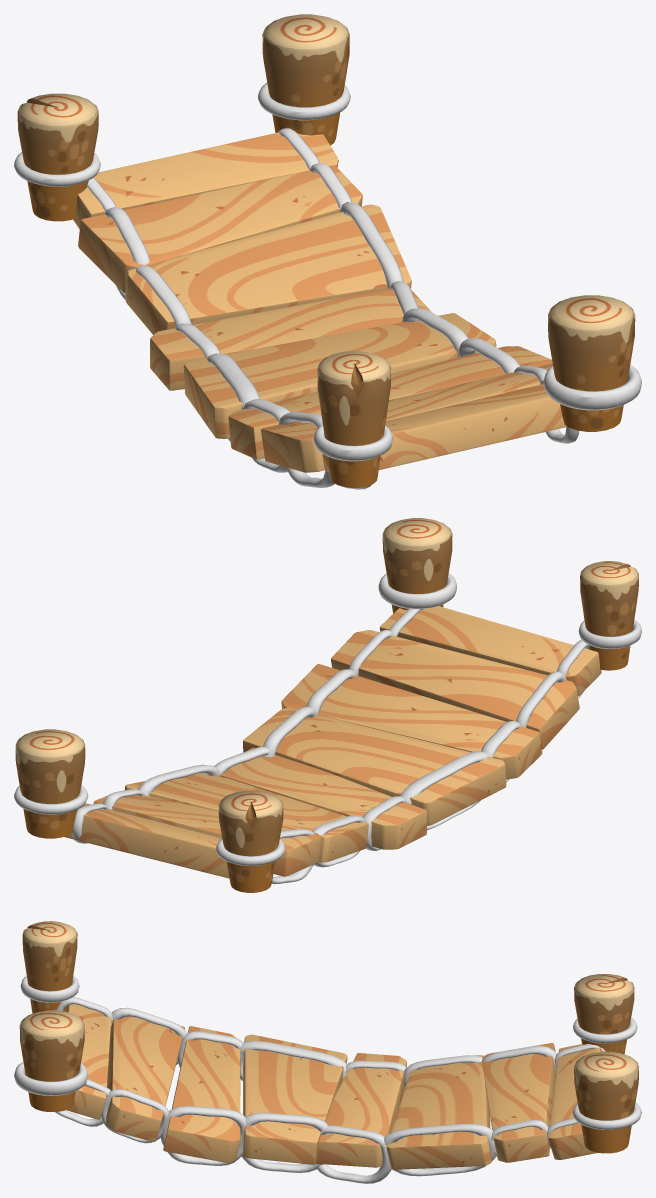
The model's file is swingBridge.fbx.
The picture shows the model from 3 angles, top to bottom: view 1: azimuth 30°, elevation 25°; view 2: azimuth 150°, elevation 25°; view 3: azimuth 270°, elevation 25°; orthographic projection. The views are drawn at different scales.
Visible parts, largest first — view 1: WoodBridge1, WoodBridge004, WoodBridge005, WoodBridge2, WoodBridge3, BridgeStick004, WoodBridge008, BridgeStick1, BridgeStick3, BridgeStick005, WoodBridge006, WoodBridge007 (+13 smaller); view 2: WoodBridge005, WoodBridge007, WoodBridge006, WoodBridge008, WoodBridge3, BridgeStick1, WoodBridge2, WoodBridge1, BridgeStick3, BridgeStick004, BridgeStick005, WoodBridge004 (+15 smaller); view 3: WoodBridge005, WoodBridge1, WoodBridge006, WoodBridge007, WoodBridge3, WoodBridge004, BridgeStick1, BridgeStick004, BridgeStick005, BridgeStick3, WoodBridge008, WoodBridge2 (+18 smaller).
Boxes of the visible parts, x1,y1,x2,y2 form: WoodBridge1: (125,204,411,334); WoodBridge004: (78,165,362,292); WoodBridge005: (183,313,496,438); WoodBridge2: (73,132,338,228); WoodBridge3: (150,288,431,390); BridgeStick004: (548,295,635,431); WoodBridge008: (322,384,566,472); BridgeStick1: (262,14,349,145); BridgeStick3: (17,93,98,221); BridgeStick005: (317,351,391,487); WoodBridge006: (228,346,552,459); WoodBridge007: (261,363,552,472); WoodBridge005: (243,707,506,825); WoodBridge007: (331,630,579,749); WoodBridge006: (281,664,542,779); WoodBridge008: (379,606,601,695); WoodBridge3: (220,747,426,849); BridgeStick1: (15,729,85,838); WoodBridge2: (64,803,229,878); WoodBridge1: (125,773,368,862); BridgeStick3: (218,791,283,892); BridgeStick004: (382,518,452,613); BridgeStick005: (580,561,638,670); WoodBridge004: (93,795,321,876); WoodBridge005: (242,1034,347,1164); WoodBridge1: (386,1055,491,1169); WoodBridge006: (163,1026,240,1162); WoodBridge007: (106,1016,184,1141); WoodBridge3: (316,1053,406,1167); WoodBridge004: (482,1043,555,1162); BridgeStick1: (574,1051,638,1153); BridgeStick004: (19,1010,84,1111); BridgeStick005: (22,921,77,1013); BridgeStick3: (574,974,634,1054); WoodBridge008: (66,1004,111,1119); WoodBridge2: (548,1044,601,1159).
Bounding box in the file's own units: 2276 × 1153 × 4159.
